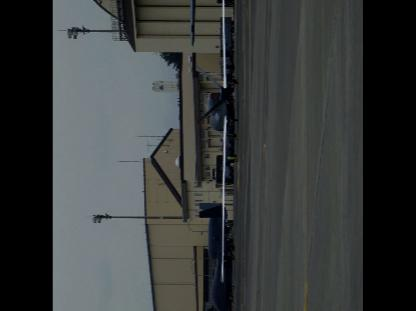P3: (196, 0, 240, 283), (199, 202, 235, 310)
